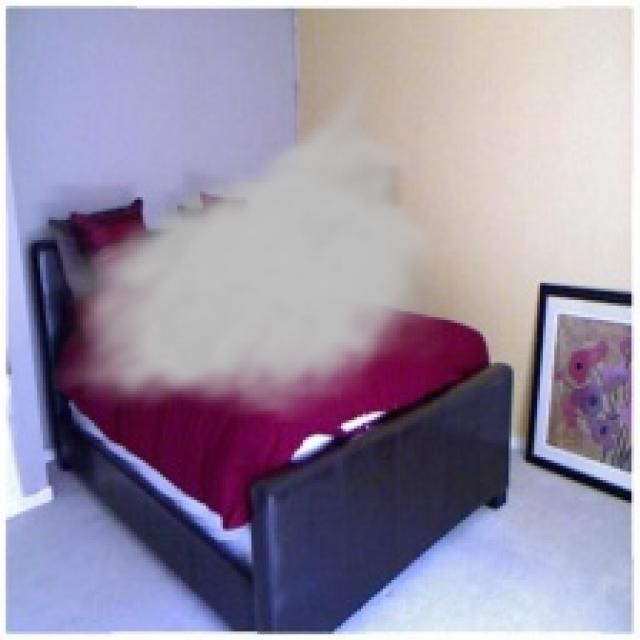smoke: (49, 63, 454, 423)
